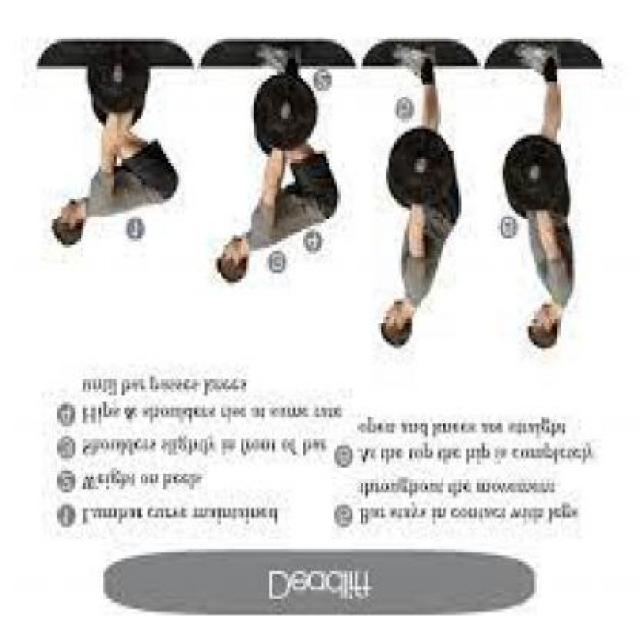Barbell: (108, 62, 130, 82), (526, 163, 545, 183), (278, 98, 294, 120), (414, 154, 430, 174)
